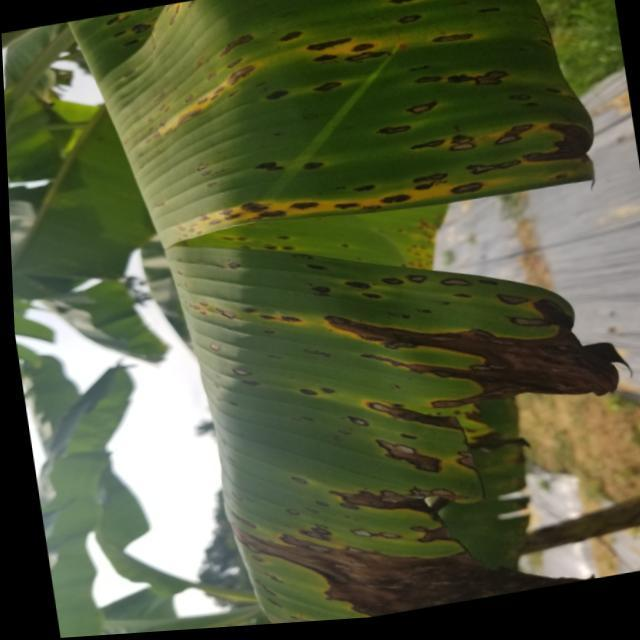Early_rust: (95, 0, 617, 615)
